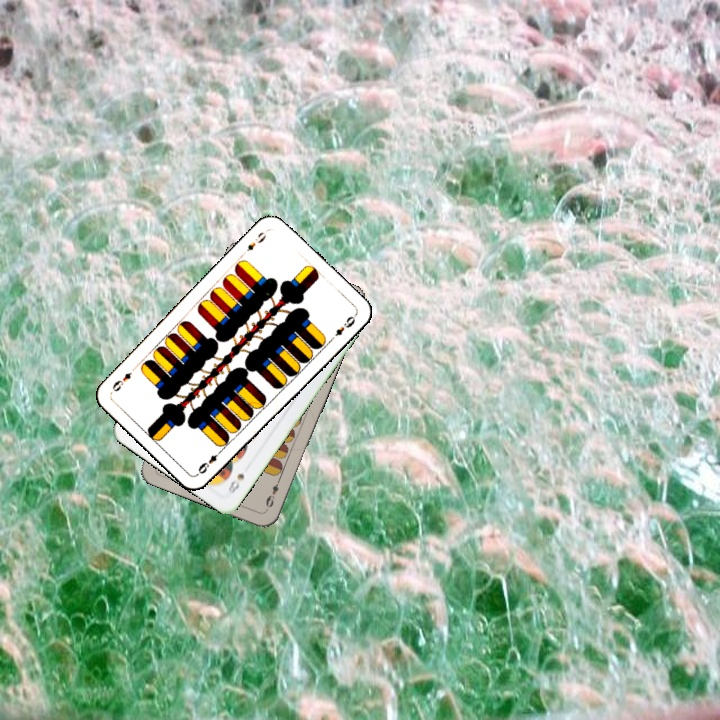E9: (194, 445, 225, 477), (261, 474, 283, 510), (242, 228, 269, 254)
S8: (224, 469, 247, 497)
